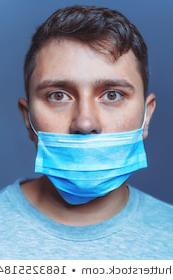mask_weared_incorrect: (28, 72, 141, 191)
